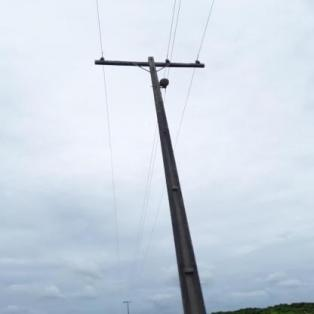Poste: (147, 55, 208, 314)
